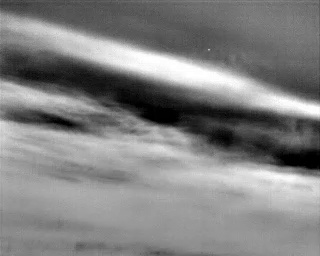BIRD: (206, 46, 212, 52)
